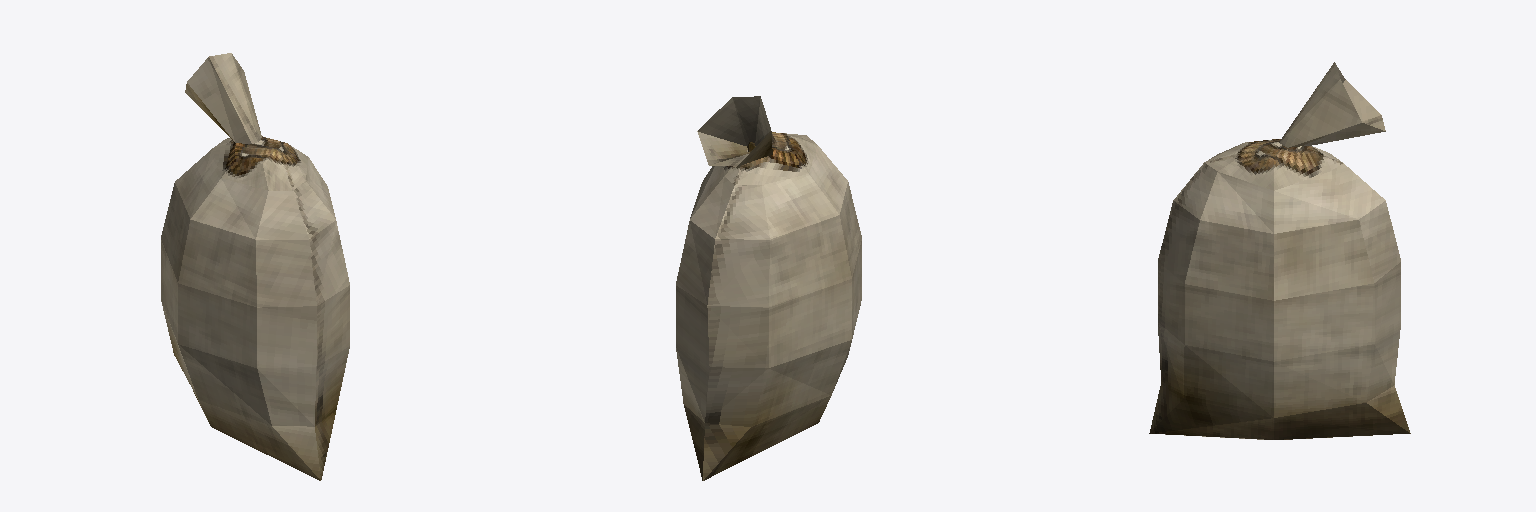
3 views of the same model, side by side, from view 1: azimuth 30°, elevation 25°; view 2: azimuth 150°, elevation 25°; view 3: azimuth 270°, elevation 25° (orthographic).
Visible parts, largest first — view 1: P_Modul_26_Sack; view 2: P_Modul_26_Sack; view 3: P_Modul_26_Sack.
Part boxes in pixels (x1,y1,x2,y2): P_Modul_26_Sack: (161,53,349,480); P_Modul_26_Sack: (676,96,861,480); P_Modul_26_Sack: (1149,62,1410,439).
Bounding box in the file's own units: 2.79 × 6.07 × 3.89.
Materials: 1 (1 with a texture image).